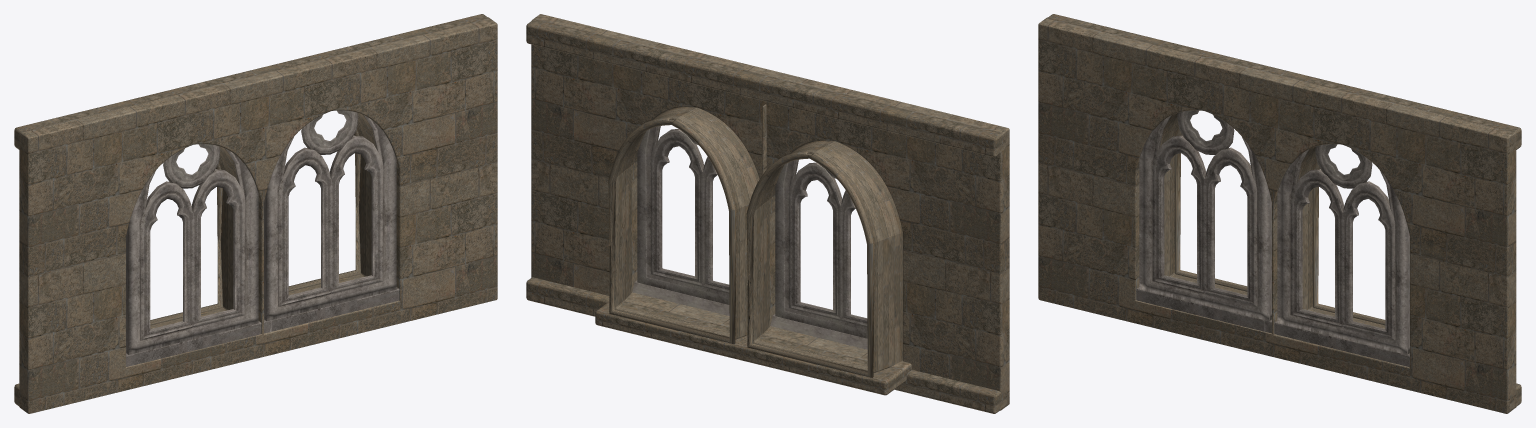
File: medieval_storm_window_shell.gltf
3 views of the same model, side by side, from view 1: azimuth 30°, elevation 25°; view 2: azimuth 150°, elevation 25°; view 3: azimuth 330°, elevation 25° (orthographic).
Parts seen in each view (by area): view 1: Continuous Stone Facade, CC BY Gothic Window 1, CC BY Gothic Window 2, Continuous Top Stone Course, Window 1 Deep Jamb And Soffit, Window 2 Deep Jamb And Soffit, Window 2 Rear Stone Lip, Window 1 Rear Stone Lip; view 2: Continuous Stone Facade, Continuous Top Stone Course, Window 1 Deep Jamb And Soffit, CC BY Gothic Window 2, CC BY Gothic Window 1, Window 2 Deep Jamb And Soffit, Window 1 Deep Sill, Continuous Bottom Stone Course, Window 1 Rear Stone Lip, Window 2 Rear Stone Lip, Window 2 Deep Sill; view 3: Continuous Stone Facade, CC BY Gothic Window 2, CC BY Gothic Window 1, Continuous Top Stone Course, Window 2 Deep Jamb And Soffit, Window 1 Deep Jamb And Soffit, Window 1 Rear Stone Lip, Window 2 Rear Stone Lip.
Boxes of the visible parts, <box> form: Continuous Stone Facade: <box>19,17,497,413</box>; CC BY Gothic Window 1: <box>126,144,271,366</box>; CC BY Gothic Window 2: <box>258,110,399,331</box>; Continuous Top Stone Course: <box>14,14,493,150</box>; Window 1 Deep Jamb And Soffit: <box>150,146,237,328</box>; Window 2 Deep Jamb And Soffit: <box>288,113,375,295</box>; Window 2 Rear Stone Lip: <box>288,129,360,291</box>; Window 1 Rear Stone Lip: <box>150,162,222,325</box>; Continuous Stone Facade: <box>531,14,1009,410</box>; Continuous Top Stone Course: <box>526,15,1007,157</box>; Window 1 Deep Jamb And Soffit: <box>749,140,902,372</box>; CC BY Gothic Window 2: <box>632,126,779,317</box>; CC BY Gothic Window 1: <box>770,159,867,349</box>; Window 2 Deep Jamb And Soffit: <box>611,107,759,339</box>; Window 1 Deep Sill: <box>735,326,911,395</box>; Continuous Bottom Stone Course: <box>526,277,1007,413</box>; Window 1 Rear Stone Lip: <box>746,151,874,377</box>; Window 2 Rear Stone Lip: <box>608,117,736,344</box>; Window 2 Deep Sill: <box>595,292,773,361</box>; Continuous Stone Facade: <box>1038,17,1516,413</box>; CC BY Gothic Window 2: <box>1264,144,1409,366</box>; CC BY Gothic Window 1: <box>1136,110,1277,331</box>; Continuous Top Stone Course: <box>1042,14,1521,153</box>; Window 2 Deep Jamb And Soffit: <box>1298,146,1385,328</box>; Window 1 Deep Jamb And Soffit: <box>1160,113,1247,295</box>; Window 1 Rear Stone Lip: <box>1174,129,1247,291</box>; Window 2 Rear Stone Lip: <box>1312,162,1385,325</box>.
Size of the model in its own units: 6.4 by 3.6 by 0.84.
4 materials, 4 textured.
